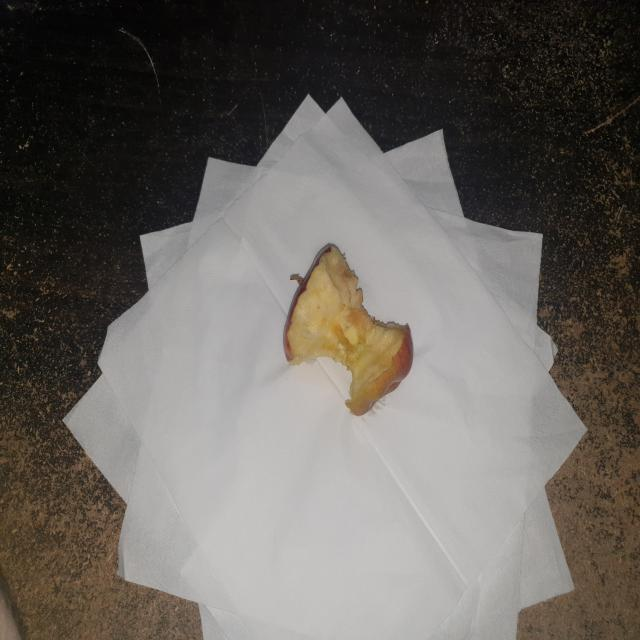apple: (279, 229, 422, 422)
